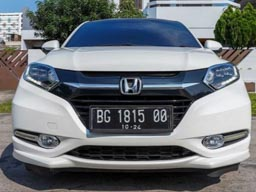plat: (91, 106, 170, 122)
